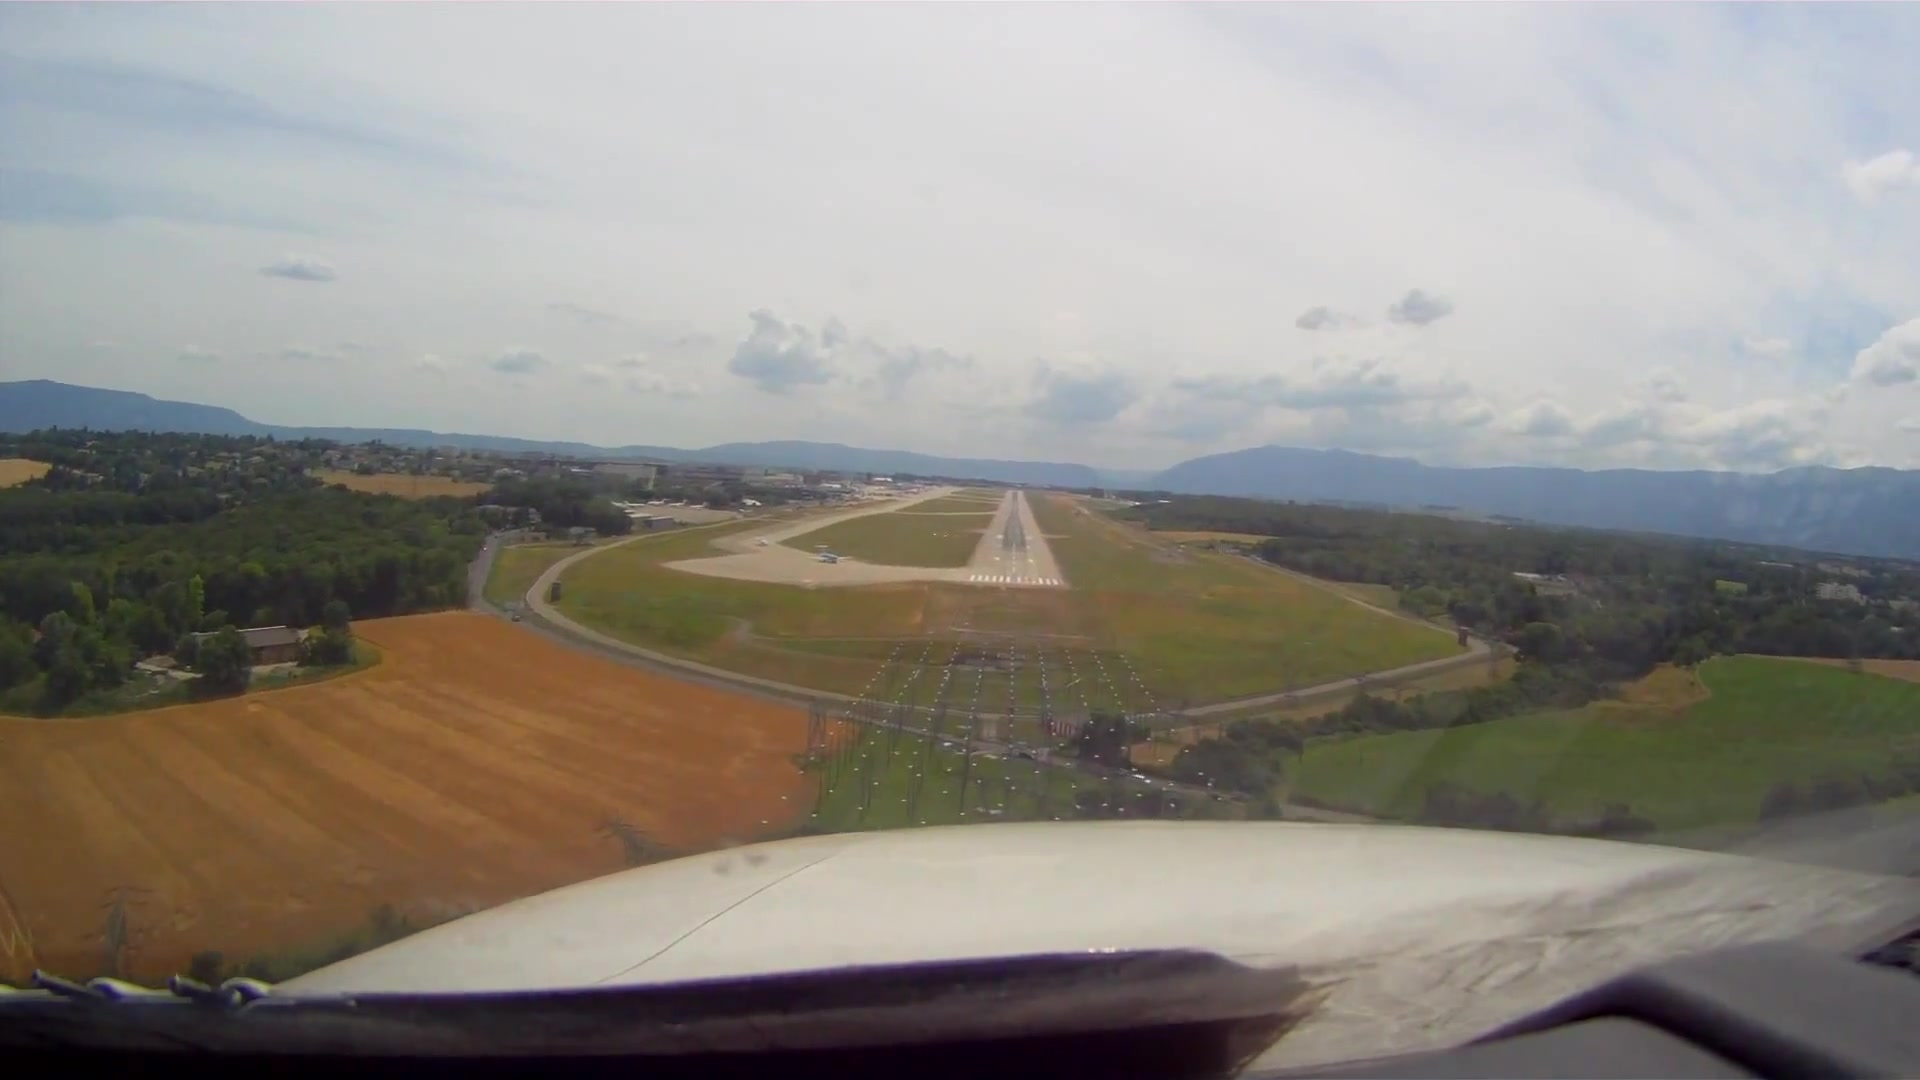entrance: (968, 574, 1064, 585)
runway: (963, 485, 1075, 593)
